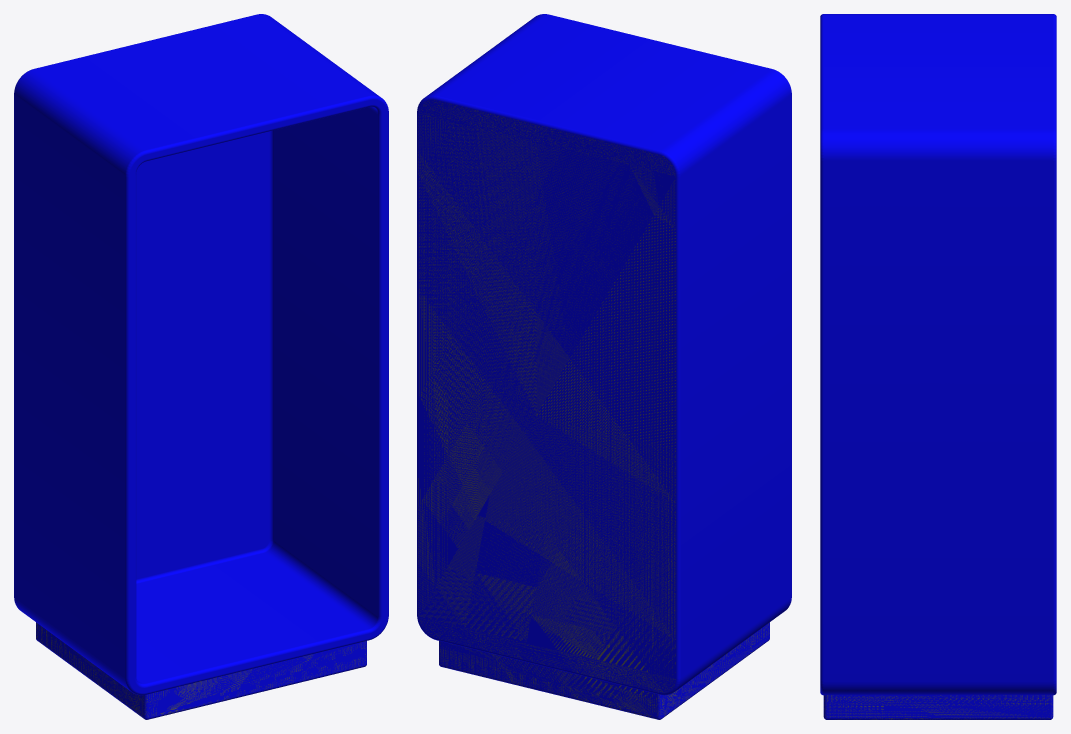
File: frame.dae
3 views of the same model, side by side, from view 1: azimuth 30°, elevation 25°; view 2: azimuth 150°, elevation 25°; view 3: azimuth 270°, elevation 25° (orthographic). The views are drawn at different scales.
Parts seen in each view (by area): view 1: instance_3, instance_3.001, instance_3.003; view 2: instance_3.002, instance_3.001, instance_3.003; view 3: instance_3.001, instance_3.003.
Part boxes in pixels (x1,y1,x2,y2): instance_3: (134,104,382,688); instance_3.001: (14,14,388,695); instance_3.003: (36,622,366,719); instance_3.002: (418,99,675,692); instance_3.001: (417,14,791,695); instance_3.003: (439,622,769,719); instance_3.001: (820,14,1056,695); instance_3.003: (823,695,1053,719).
Bounding box in the file's own units: 0.9106 × 0.6842 × 1.89.
